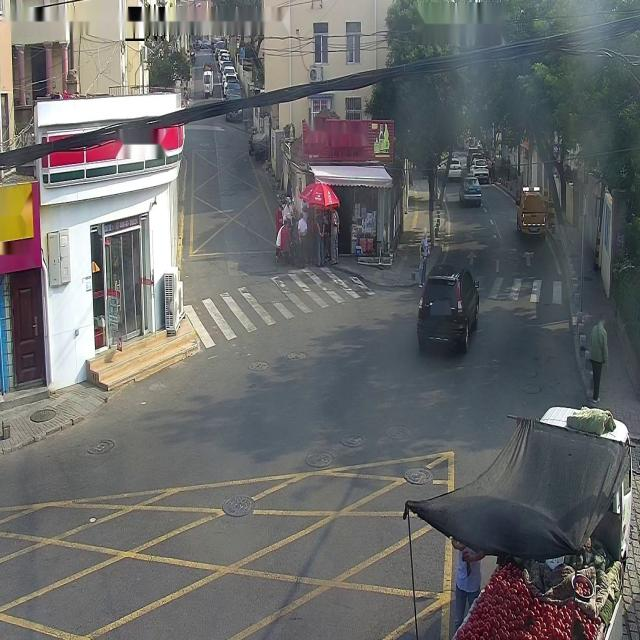car: (405, 402, 633, 640)
fixed_stall: (444, 536, 613, 640)
sunshade: (408, 416, 634, 561), (308, 161, 394, 189), (298, 179, 340, 212)
